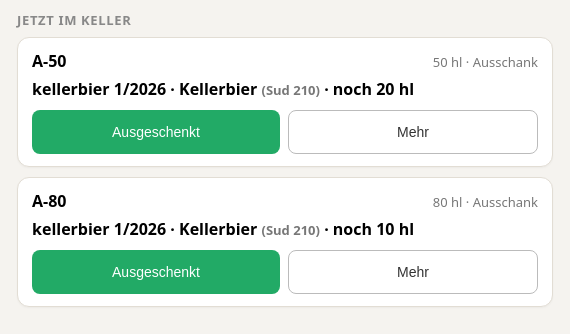
Kellerblick › renders one card per tank for a multi-tank Ausschank split
This screenshot has width=570, height=334.
Expected: the text "A-50" is shown, [32,50,66,72]
Expected: the text "A-80" is shown, [32,190,66,212]
Click the button "Mehr" below "20 hl": (413, 132) [288,110,538,154]
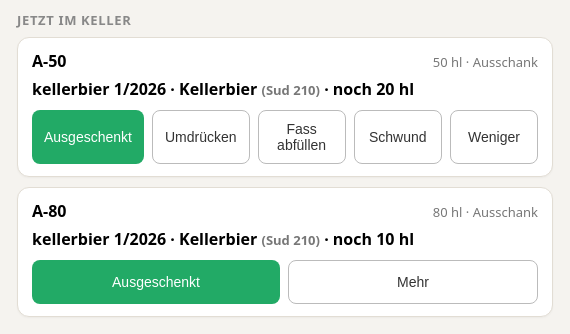
Expected: the number of buttons "Umdrücken" is 1, [152,110,250,164]
